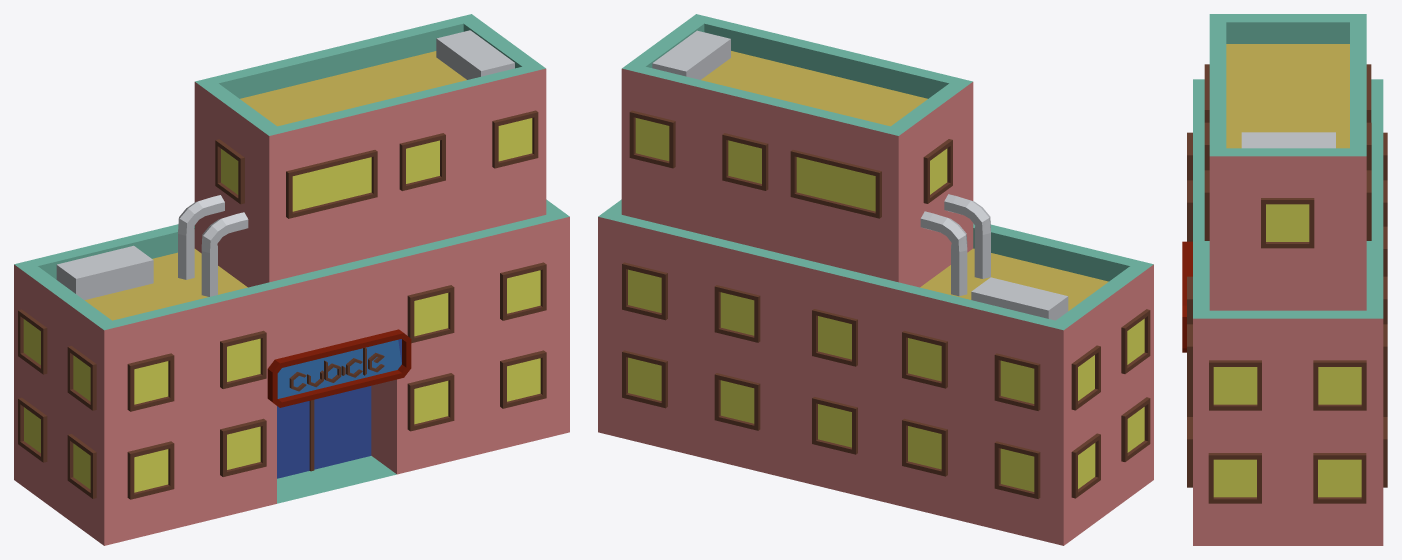
File: Target_Building_13.FBX
3 renders of one model, left to right at view 1: azimuth 30°, elevation 25°; view 2: azimuth 150°, elevation 25°; view 3: azimuth 270°, elevation 25°, orthographic. The views are drawn at different scales.
Visible parts, largest first — view 1: Object008; view 2: Object008; view 3: Object008.
Part boxes in pixels (box(x1,y1,x2,y2)): Object008: box(14, 14, 569, 545); Object008: box(598, 14, 1153, 545); Object008: box(1182, 14, 1387, 545).
Bounding box in the file's own units: 541 × 395 × 193.
